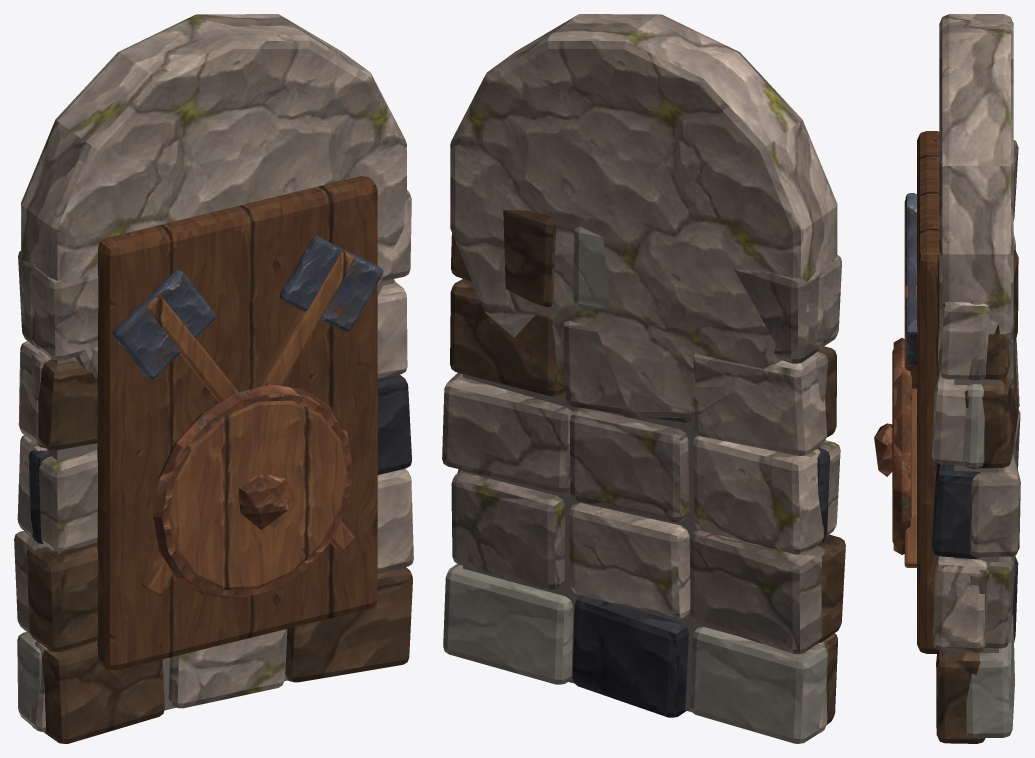
The model's file is stone_weapon_plaque.glb.
3 views of the same model, side by side, from view 1: azimuth 30°, elevation 25°; view 2: azimuth 150°, elevation 25°; view 3: azimuth 270°, elevation 25° (orthographic). The views are drawn at different scales.
Visible parts, largest first — view 1: model; view 2: model; view 3: model.
Boxes of the visible parts, <box> form: model: <box>14,14,413,743</box>; model: <box>442,14,845,743</box>; model: <box>874,14,1020,743</box>.
Bounding box in the file's own units: 0.8138 × 1.41 × 0.2957.
11 materials, 10 textured.
